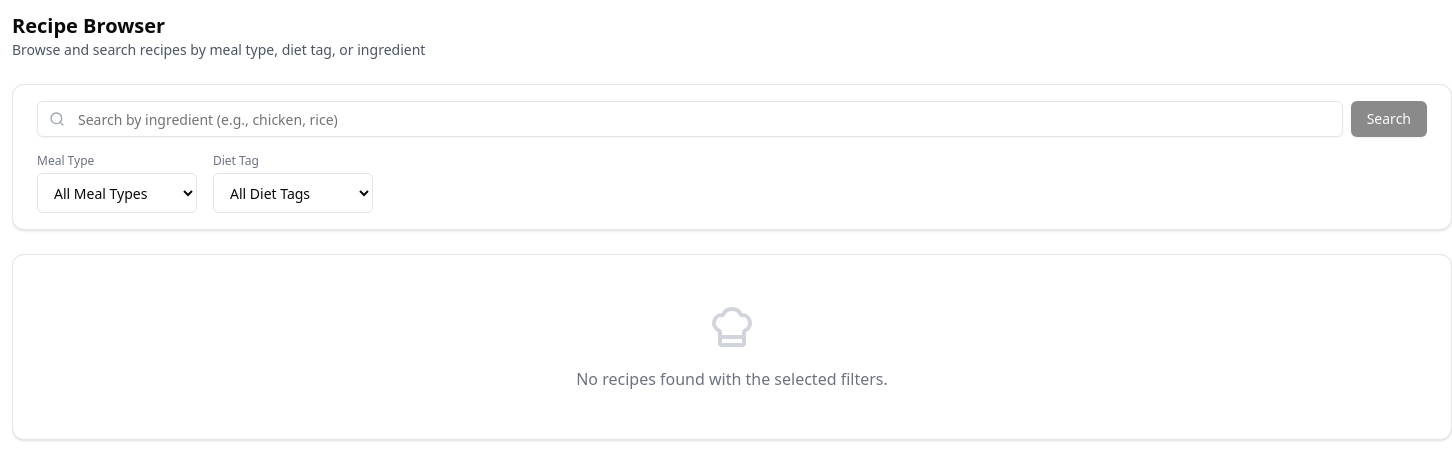
it: RecipeBrowser › ingredient search › should show clear button when searching with results
In the field with placeholder "Search by ingredient (e.g., chicken, rice)": (690, 119) [37, 101, 1343, 137], type "chicken"
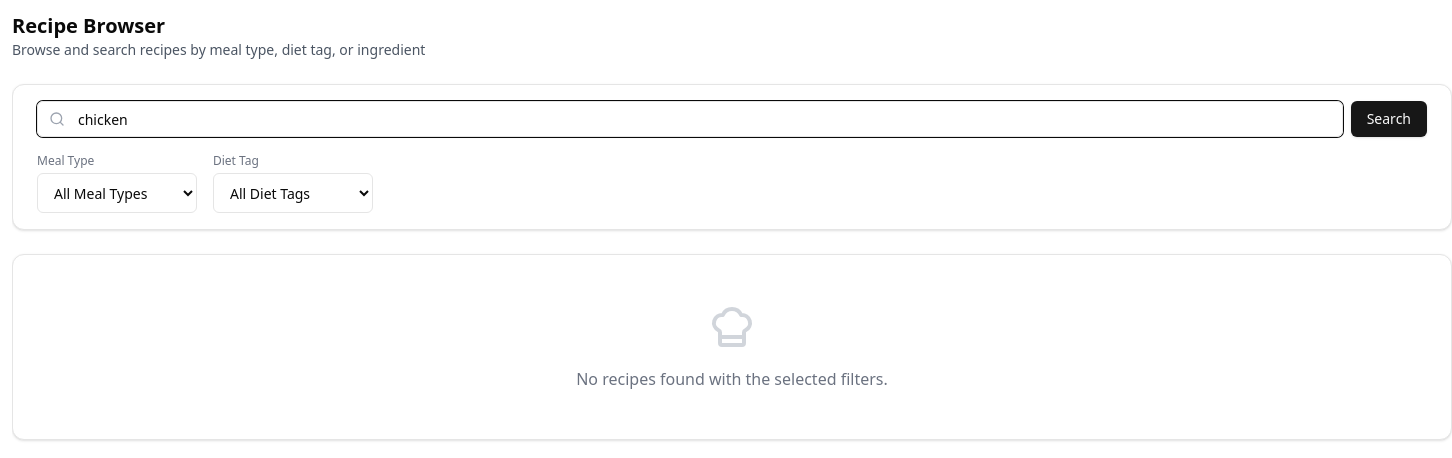
Click the button "Search": click(1389, 119) [1351, 101, 1427, 137]
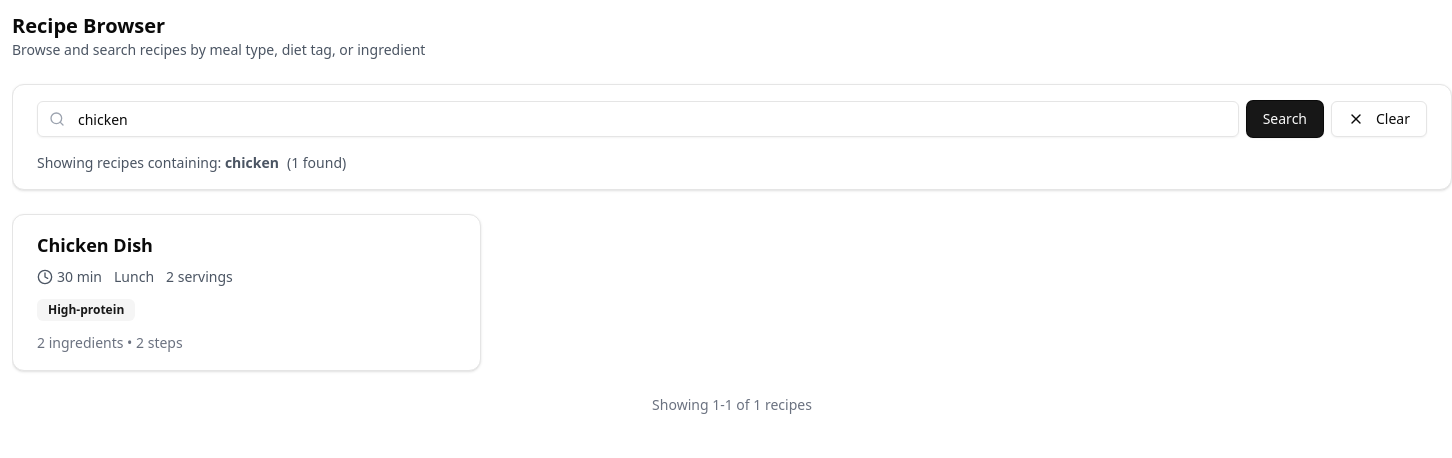
Check: the button "Clear" is shown, box [1331, 101, 1427, 137]
